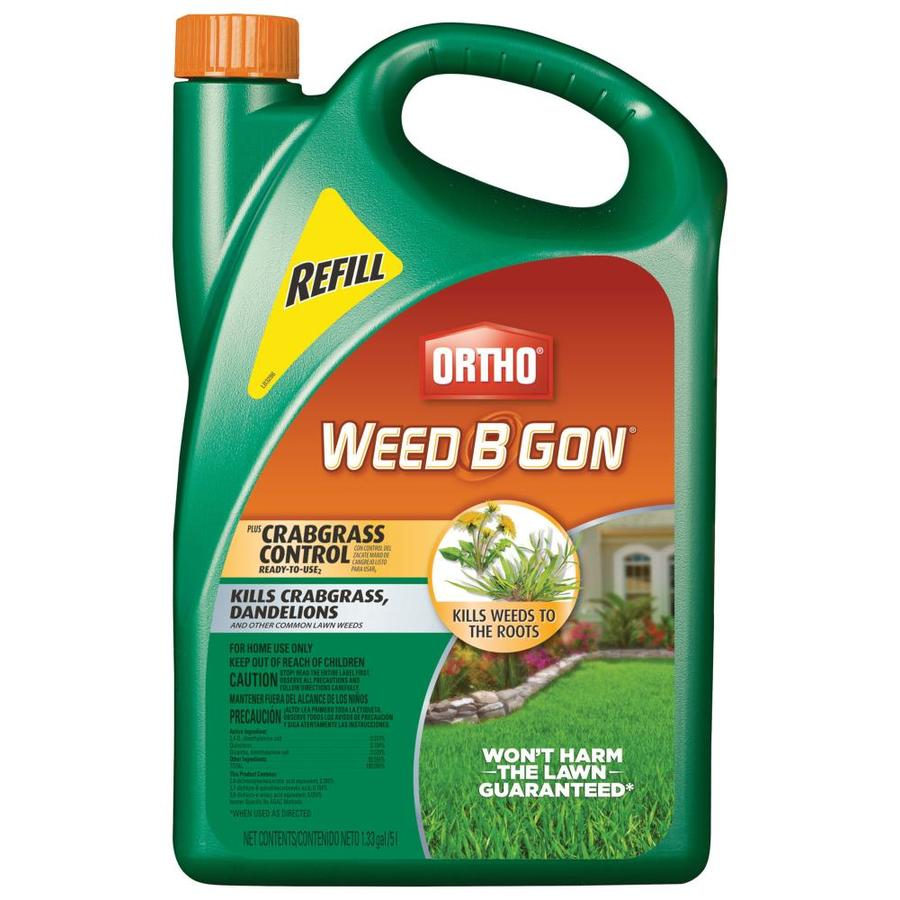crabgrass: (474, 542, 578, 604)
